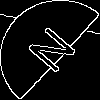N: (25, 25, 86, 82)
